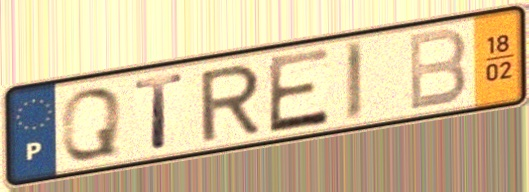B: (405, 25, 470, 114)
E: (265, 44, 333, 137)
I: (342, 37, 367, 126)
Q: (58, 85, 125, 163)
R: (196, 60, 263, 145)
T: (132, 70, 188, 153)
